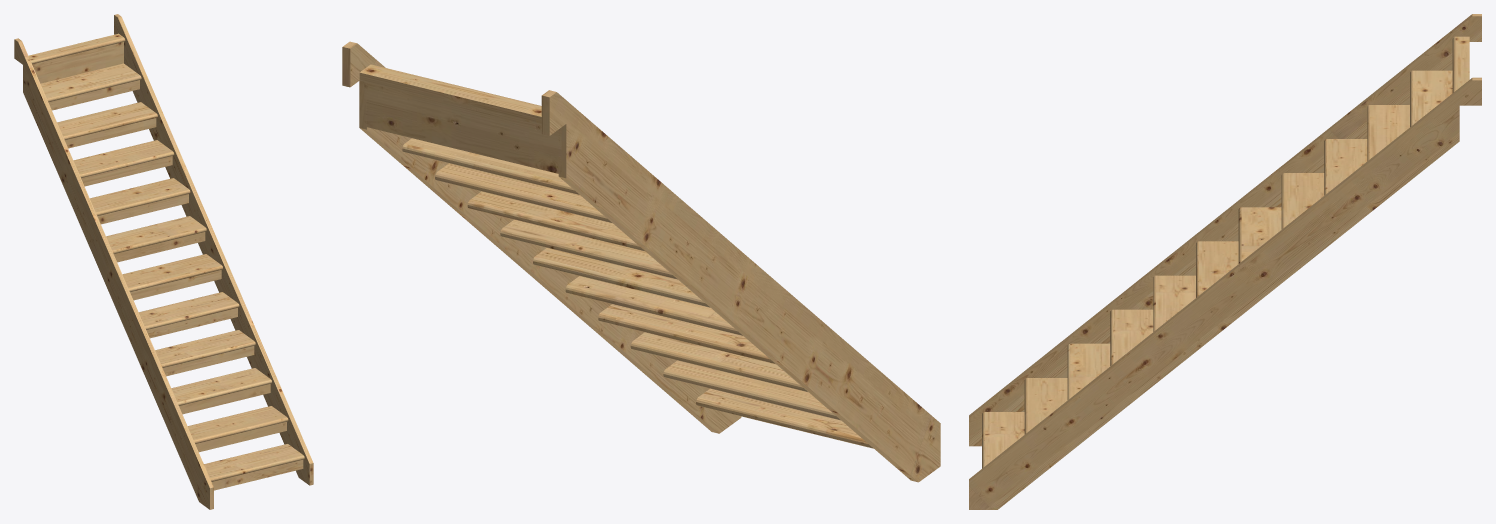
The model's file is 8554 Krkhorn.dae.
The picture shows the model from 3 angles, left to right: view 1: azimuth 30°, elevation 25°; view 2: azimuth 150°, elevation 25°; view 3: azimuth 270°, elevation 25°; orthographic projection. The views are drawn at different scales.
Visible parts, largest first — view 1: StairCon (×26); view 2: StairCon (×14); view 3: StairCon (×14).
Part boxes in pixels (<box>): StairCon (×26): <box>14,14,313,509</box>; StairCon (×14): <box>342,41,940,482</box>; StairCon (×14): <box>969,14,1481,509</box>.
Bounding box in the file's own units: 0.85 × 2.78 × 2.57.
Materials: 4 (4 with a texture image).
